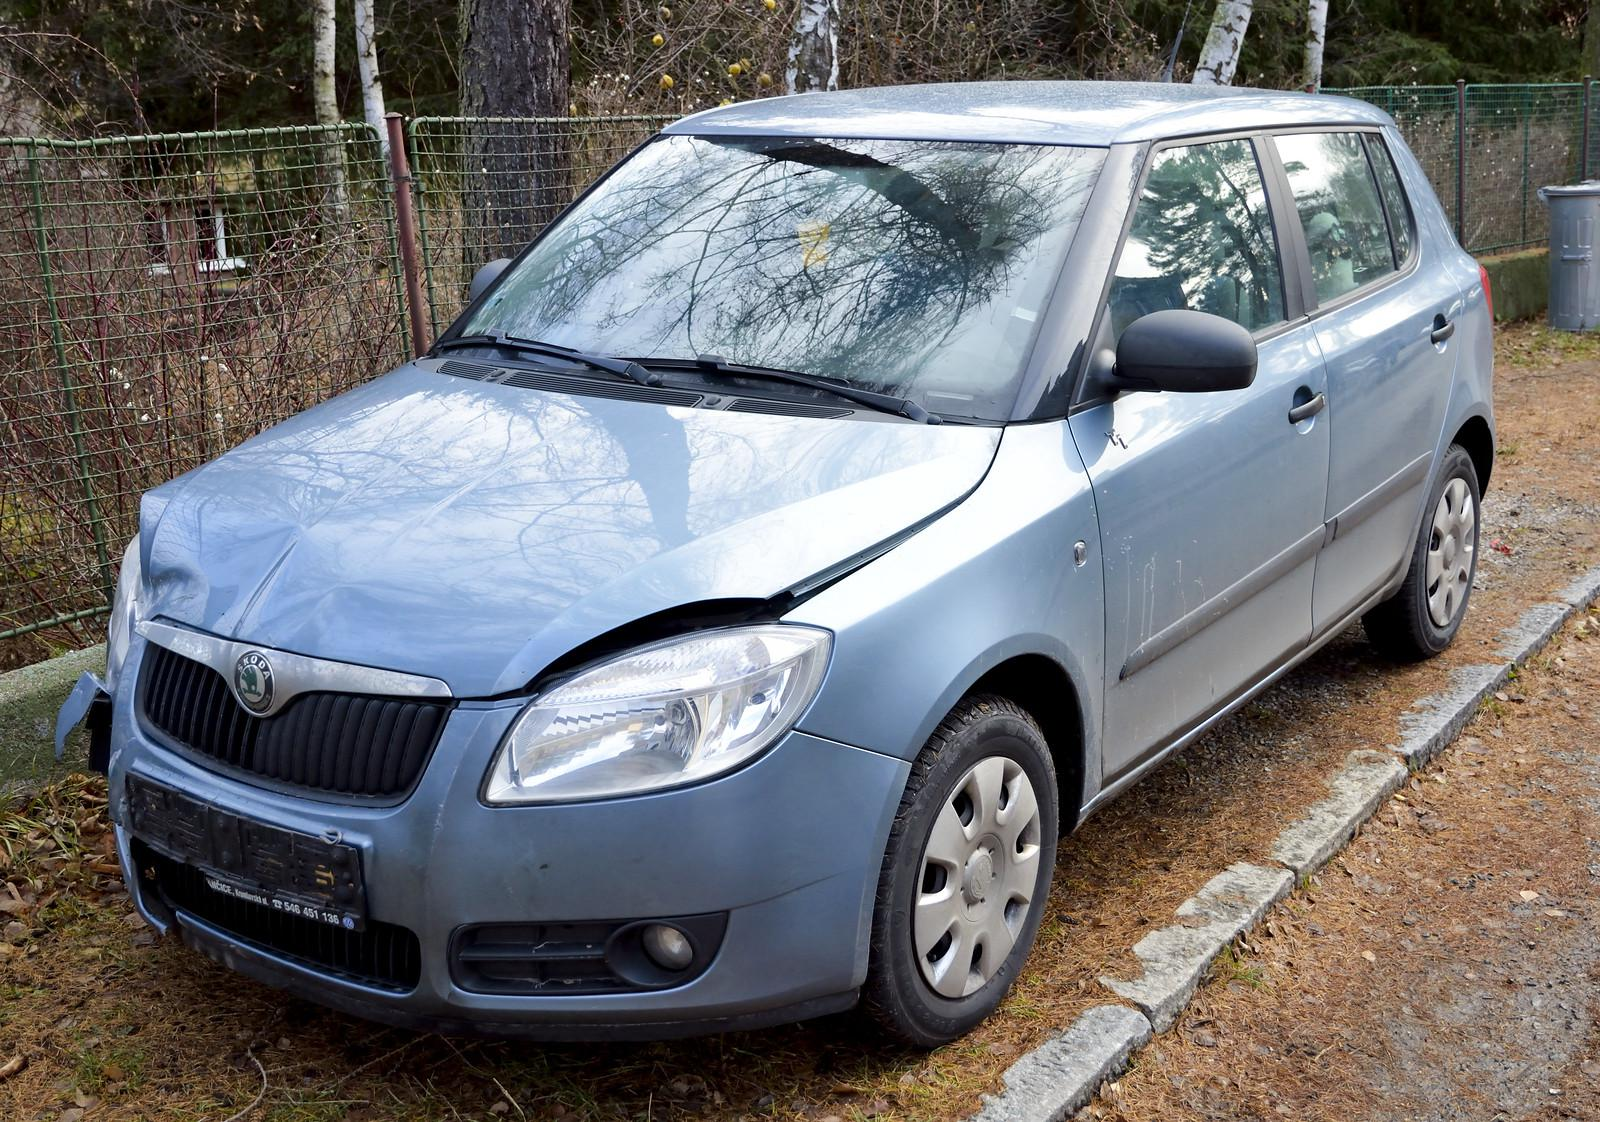bonnet-dent: (108, 445, 481, 680)
